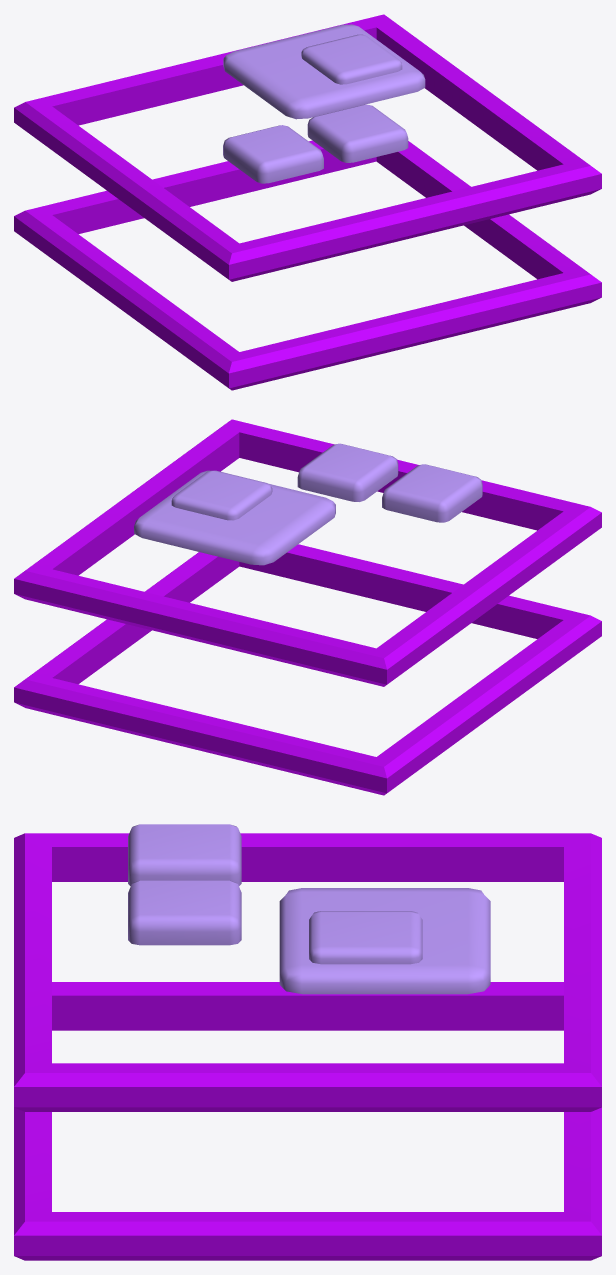
File: wall_deco9.fbx
The picture shows the model from 3 angles, top to bottom: view 1: azimuth 30°, elevation 25°; view 2: azimuth 150°, elevation 25°; view 3: azimuth 270°, elevation 25°; orthographic projection. The views are drawn at different scales.
Parts seen in each view (by area): view 1: wall_deco9; view 2: wall_deco9; view 3: wall_deco9.
Part boxes in pixels (left/top/right/bottom): wall_deco9: left=14, top=14, right=601, bottom=390; wall_deco9: left=14, top=419, right=601, bottom=795; wall_deco9: left=14, top=824, right=601, bottom=1260.
Size of the model in its own units: 345 by 165 by 344.
